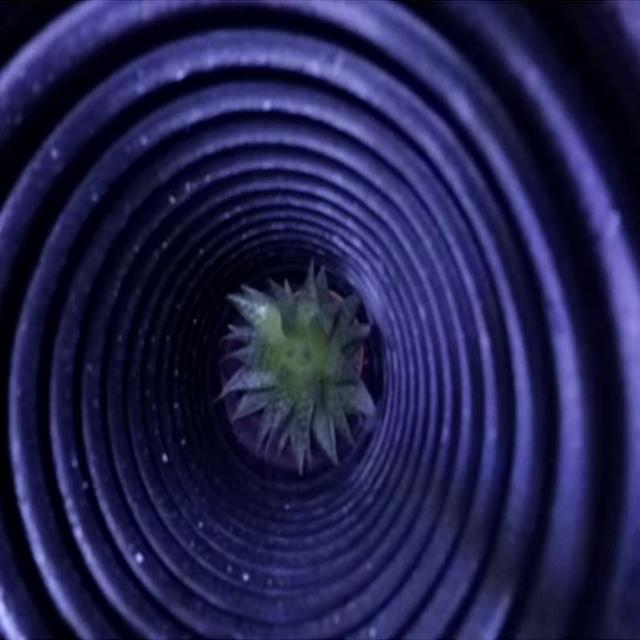leaf: (227, 269, 370, 459)
